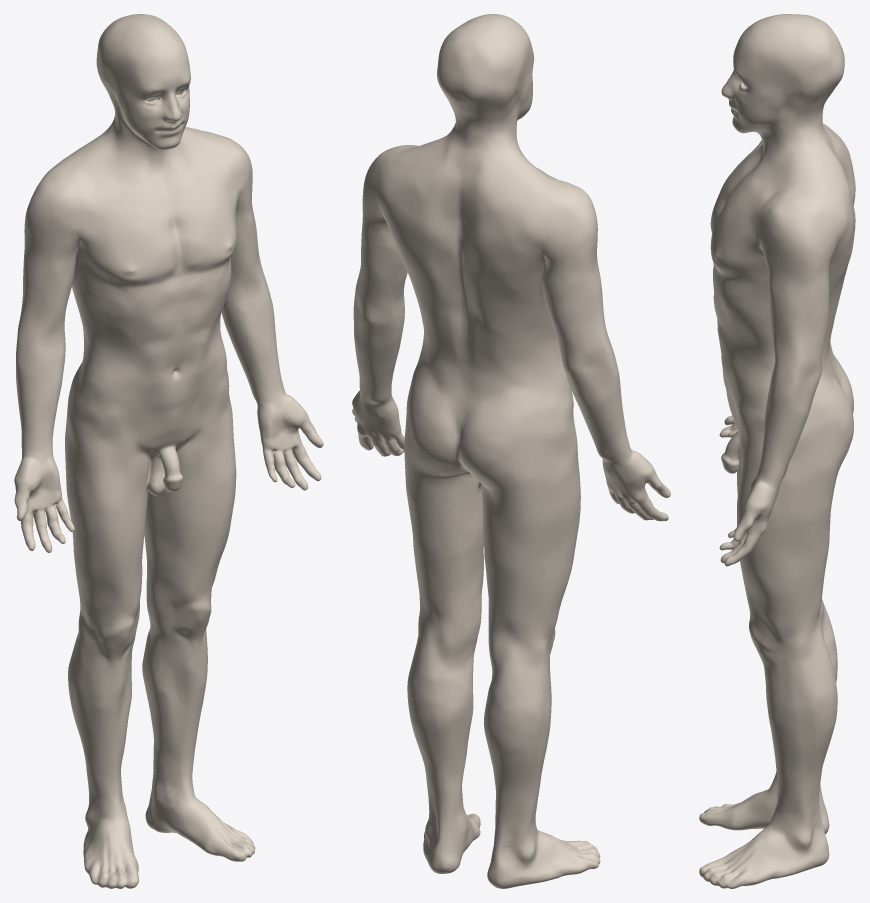
The model's file is skin.glb.
3 views of the same model, side by side, from view 1: azimuth 30°, elevation 25°; view 2: azimuth 150°, elevation 25°; view 3: azimuth 270°, elevation 25° (orthographic). The views are drawn at different scales.
Parts seen in each view (by area): view 1: skin; view 2: skin; view 3: skin.
Part boxes in pixels (bbox=[...]): skin: bbox=[14, 14, 323, 888]; skin: bbox=[352, 14, 670, 888]; skin: bbox=[699, 14, 855, 888].
Bounding box in the file's own units: 718 × 1850 × 314.
